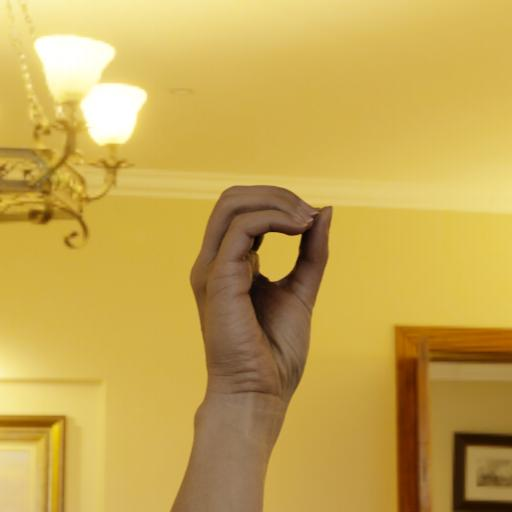O: (184, 172, 345, 404)
